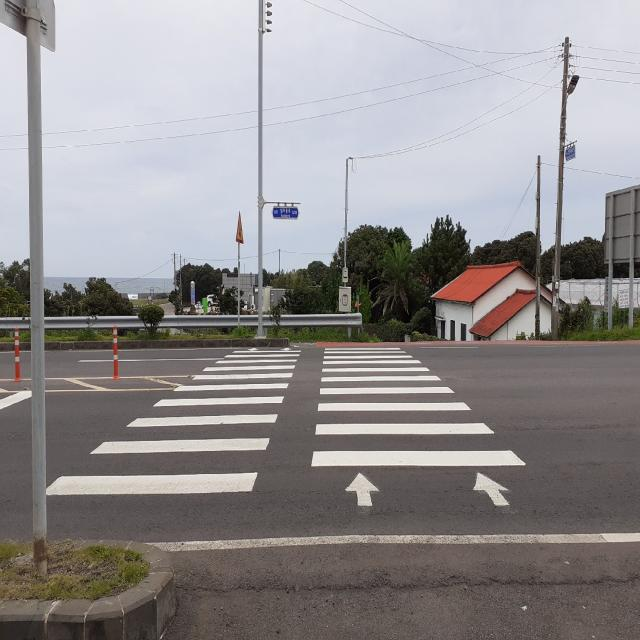횡단보도: (46, 340, 524, 508)
